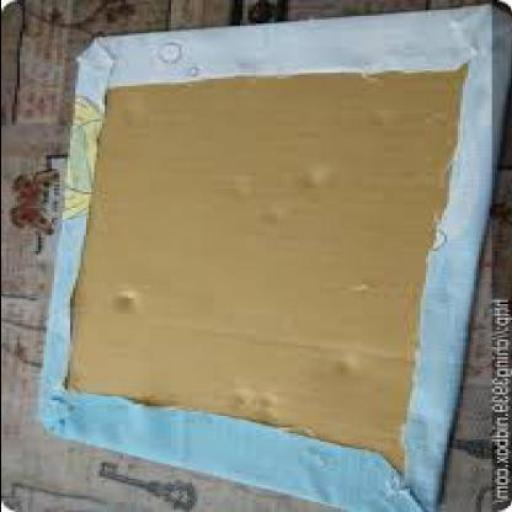cardboard: (37, 2, 509, 510)
